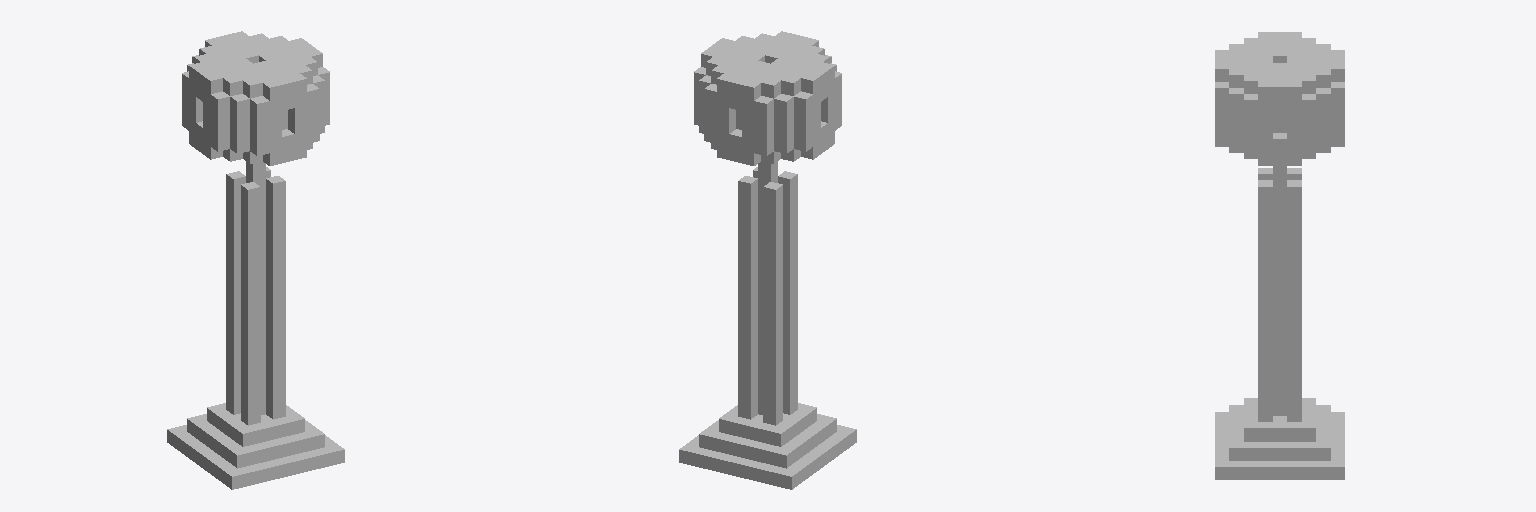
Rendered from light.obj.
3 renders of one model, left to right at view 1: azimuth 30°, elevation 25°; view 2: azimuth 150°, elevation 25°; view 3: azimuth 270°, elevation 25°, orthographic.
Visible parts, largest first — view 1: light; view 2: light; view 3: light.
Boxes of the visible parts, box(x1,y1,x2,y2) form: light: box(167, 31, 344, 489); light: box(679, 31, 856, 489); light: box(1215, 32, 1344, 479).
Size of the model in its own units: 9 by 30 by 9.